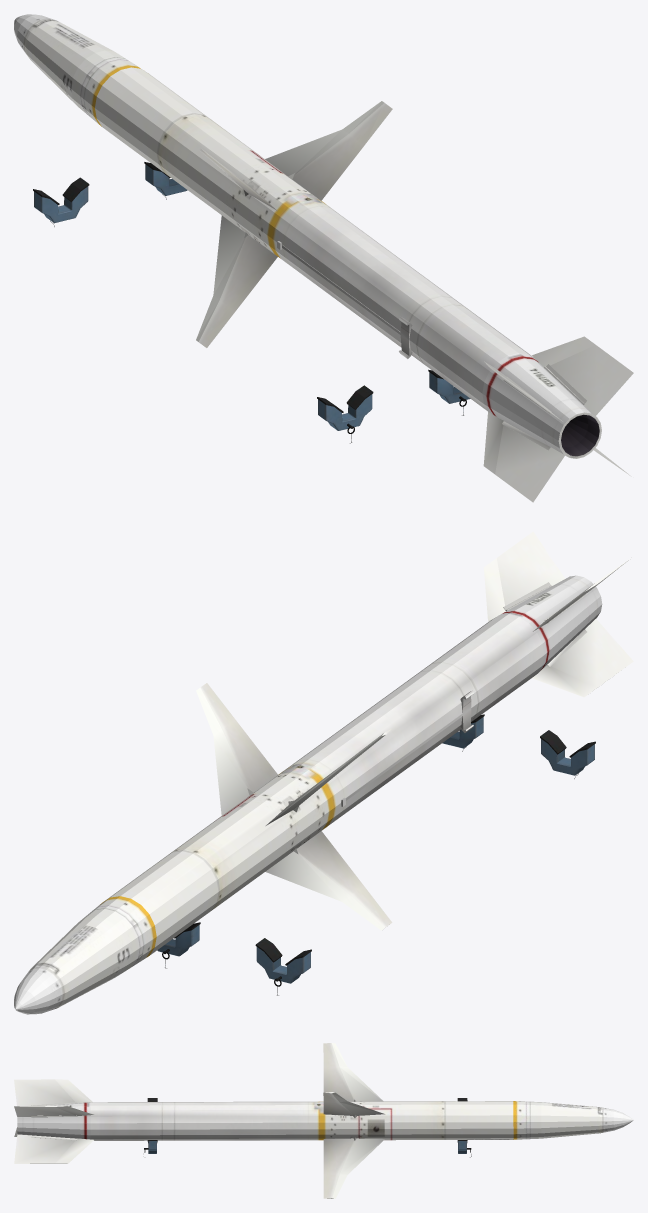
Rendered from w_agm88.glb.
3 views of the same model, one above another, from view 1: azimuth 30°, elevation 25°; view 2: azimuth 150°, elevation 25°; view 3: azimuth 270°, elevation 25° (orthographic). The views are drawn at different scales.
Parts seen in each view (by area): view 1: body|Tex_0271_0.png, body|material_3; view 2: body|Tex_0271_0.png, body|material_3; view 3: body|Tex_0271_0.png, body|material_3.
Boxes of the visible parts, box(x1,y1,x2,y2) form: body|Tex_0271_0.png: box(14, 14, 633, 502); body|material_3: box(33, 162, 470, 443); body|Tex_0271_0.png: box(14, 531, 633, 1014); body|material_3: box(157, 714, 595, 995); body|Tex_0271_0.png: box(14, 1043, 633, 1198); body|material_3: box(144, 1098, 471, 1157).
Size of the model in its own units: 0.9804 by 0.8031 by 4.22.
2 materials, 2 textured.
